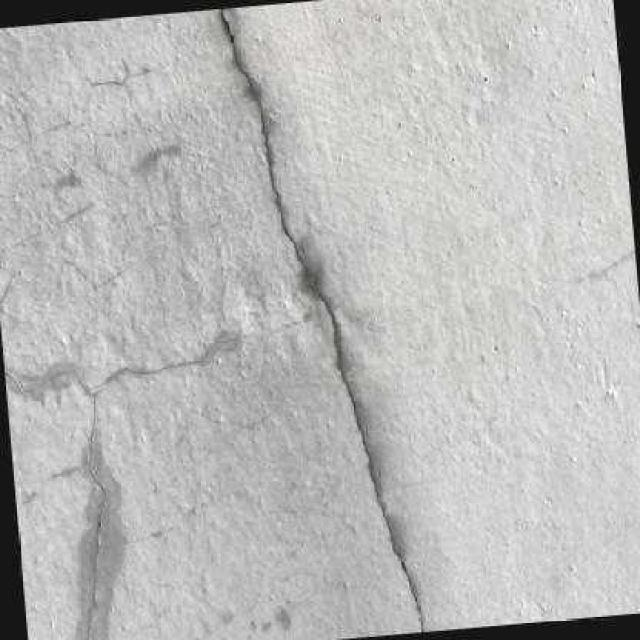D00: (219, 8, 422, 632)
